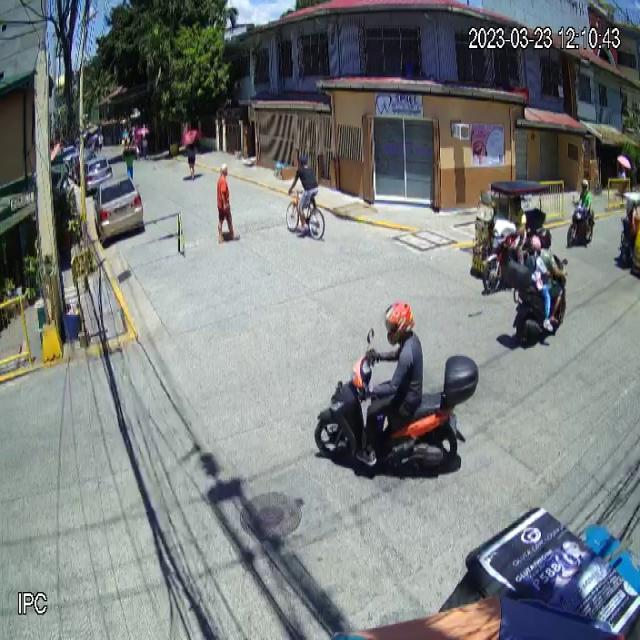Car: (94, 174, 144, 245)
Motorcycle: (314, 324, 480, 476), (504, 246, 568, 349)
Tricycle: (471, 177, 548, 293)
